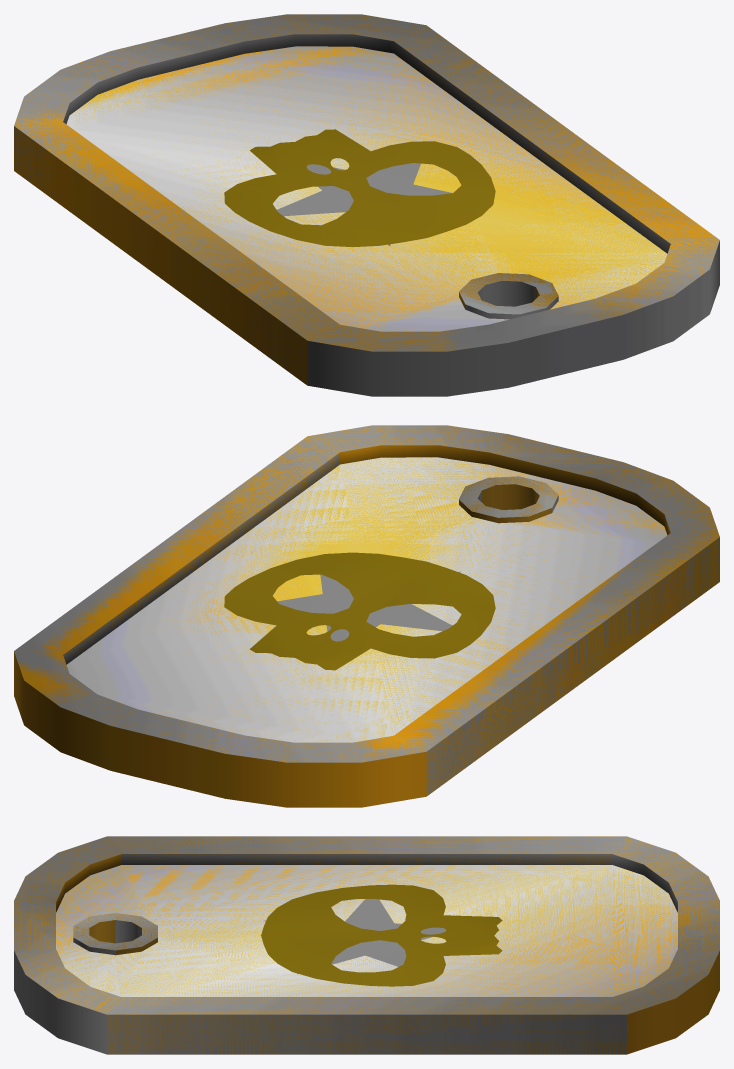
Rendered from DogTag.fbx.
The picture shows the model from 3 angles, top to bottom: view 1: azimuth 30°, elevation 25°; view 2: azimuth 150°, elevation 25°; view 3: azimuth 270°, elevation 25°; orthographic projection. The views are drawn at different scales.
Parts seen in each view (by area): view 1: Tag (1), EnemyTag (1); view 2: Tag (1), EnemyTag (1); view 3: Tag (1), EnemyTag (1).
Boxes of the visible parts, left/top/right/bottom form: Tag (1): left=14, top=14, right=719, bottom=396; EnemyTag (1): left=14, top=14, right=719, bottom=385; Tag (1): left=14, top=425, right=719, bottom=795; EnemyTag (1): left=14, top=425, right=719, bottom=807; Tag (1): left=14, top=836, right=719, bottom=1054; EnemyTag (1): left=14, top=836, right=719, bottom=1054.
Bounding box in the file's own units: 0.9276 × 0.0967 × 1.55.
Materials: 1 (1 with a texture image).
